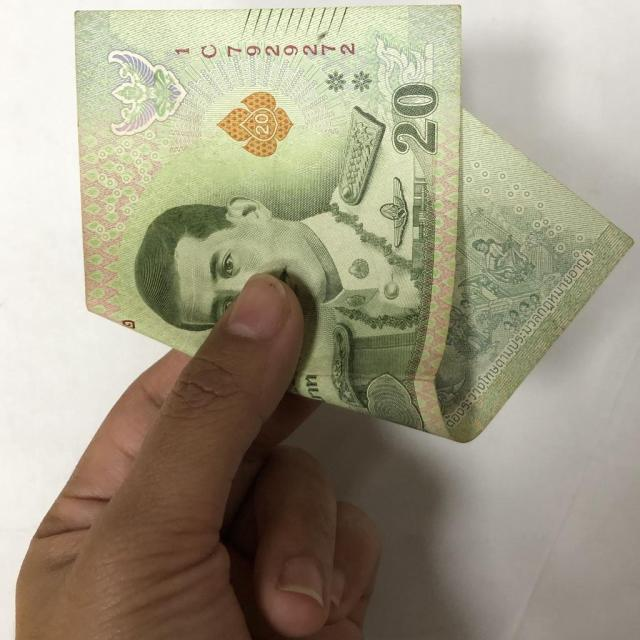THAI20: (75, 6, 631, 442)
